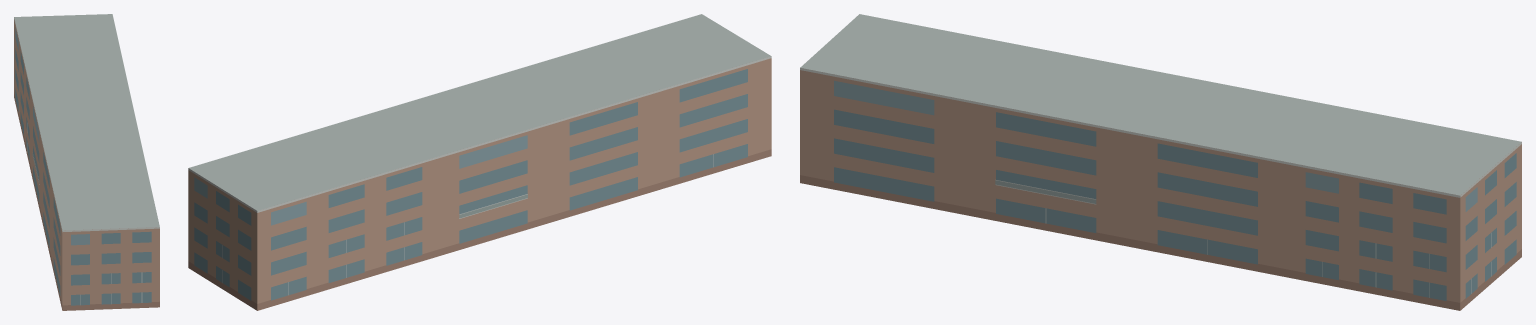
File: survey-upis-33042401.glb
3 renders of one model, left to right at view 1: azimuth 30°, elevation 25°; view 2: azimuth 150°, elevation 25°; view 3: azimuth 270°, elevation 25°, orthographic. The views are drawn at different scales.
Parts seen in each view (by area): view 1: survey-upis-33042401.tmp; view 2: survey-upis-33042401.tmp; view 3: survey-upis-33042401.tmp.
Boxes of the visible parts, box(x1,y1,x2,y2) form: survey-upis-33042401.tmp: box(14, 14, 159, 310); survey-upis-33042401.tmp: box(188, 14, 771, 310); survey-upis-33042401.tmp: box(800, 14, 1521, 310).
Bounding box in the file's own units: 41.22 × 12.2 × 69.21.
